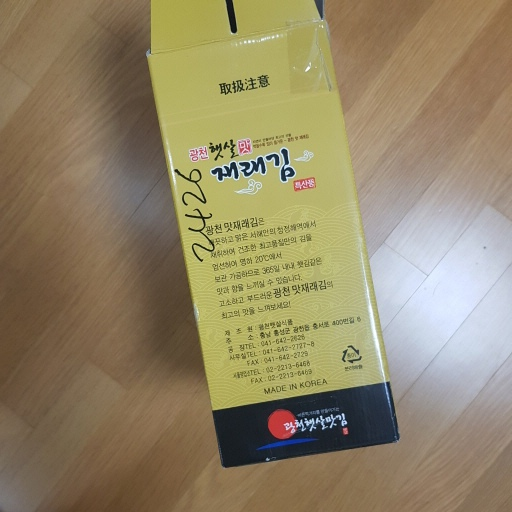Paper_0: (141, 2, 408, 470)
